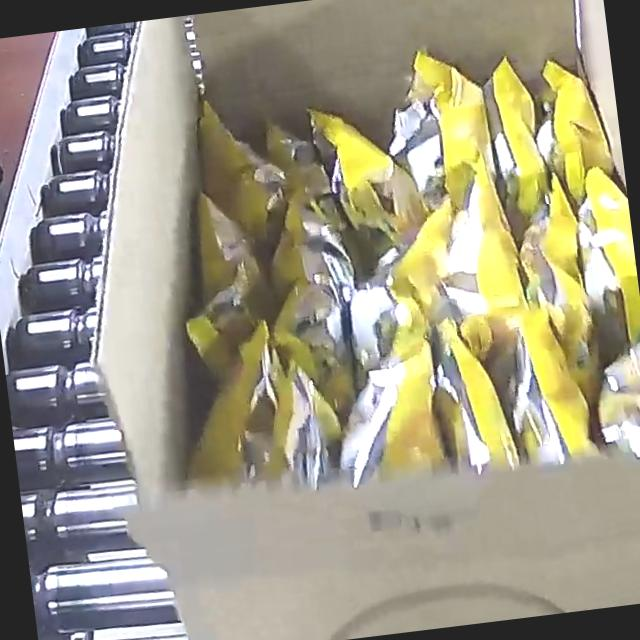salted: (191, 6, 640, 495)
